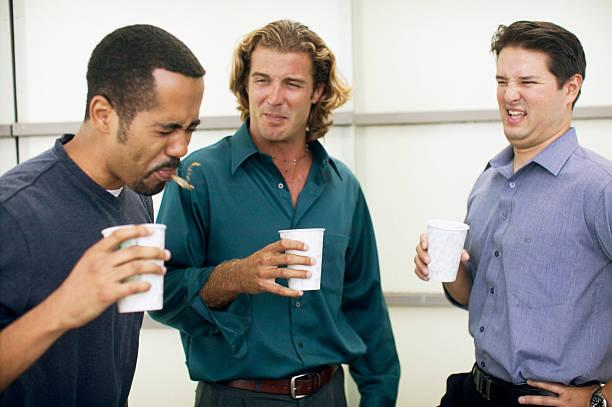Spitting: (61, 17, 223, 217), (76, 76, 78, 84)
